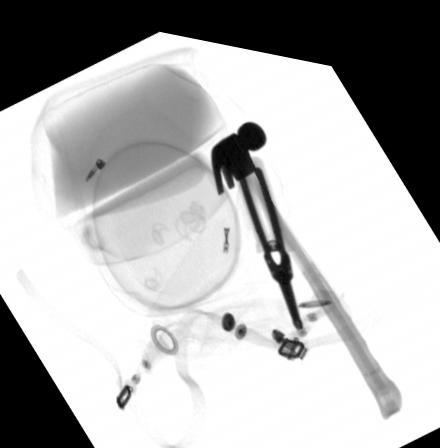Hammer: (211, 109, 402, 403)
Pliers: (231, 144, 307, 319)
